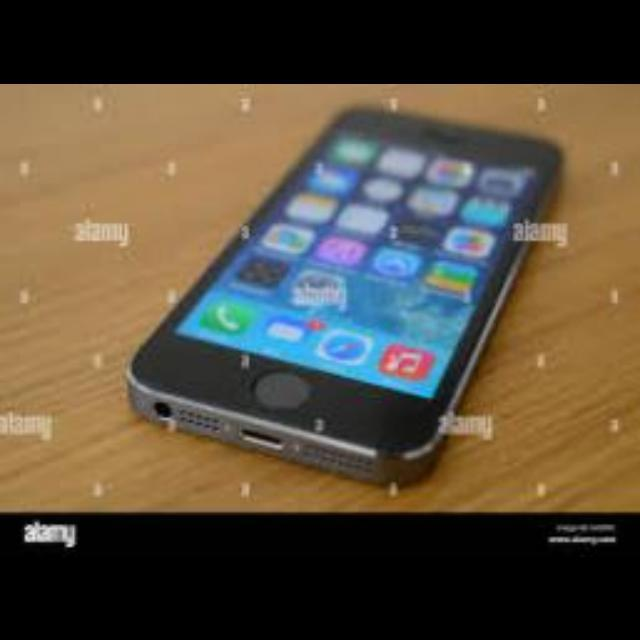Phone: (126, 106, 572, 478)
